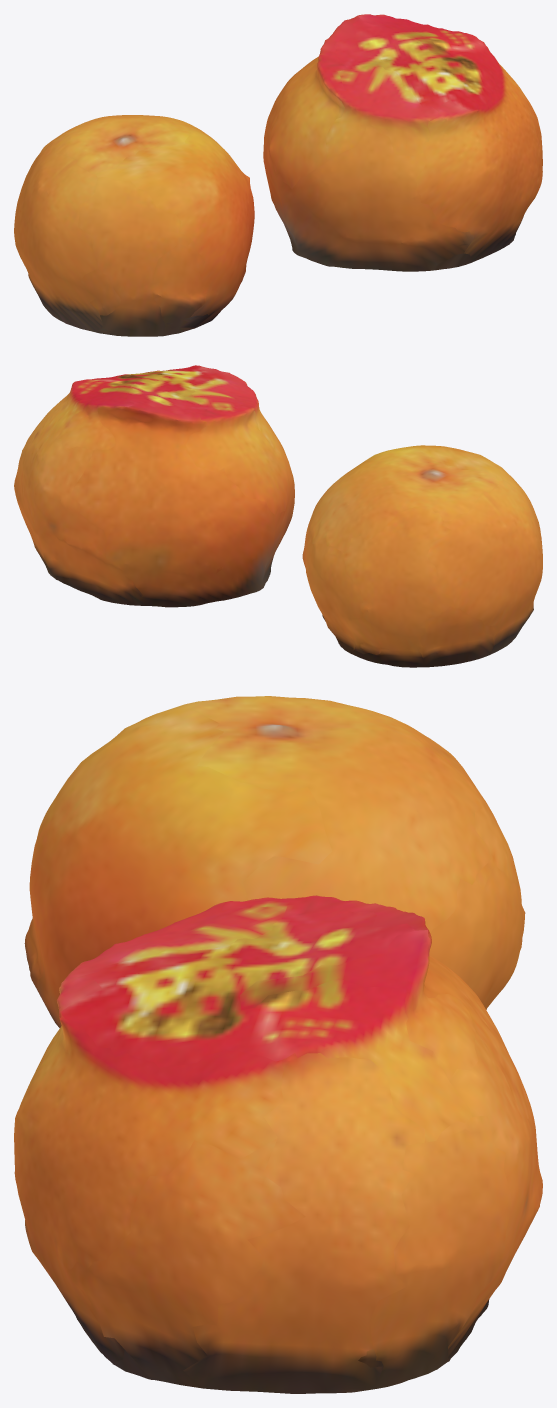
Rendered from chinese_honey_mandarin_scaniverse.glb.
3 renders of one model, top to bottom at view 1: azimuth 30°, elevation 25°; view 2: azimuth 150°, elevation 25°; view 3: azimuth 270°, elevation 25°, orthographic. The views are drawn at different scales.
Visible parts, largest first — view 1: mesh_main_0; view 2: mesh_main_0; view 3: mesh_main_0.
Part boxes in pixels (box(x1,y1,x2,y2)): mesh_main_0: box(14, 14, 542, 336); mesh_main_0: box(14, 365, 542, 667); mesh_main_0: box(14, 696, 542, 1393).
Bounding box in the file's own units: 0.1377 × 0.0498 × 0.0651.
Materials: 1 (1 with a texture image).
